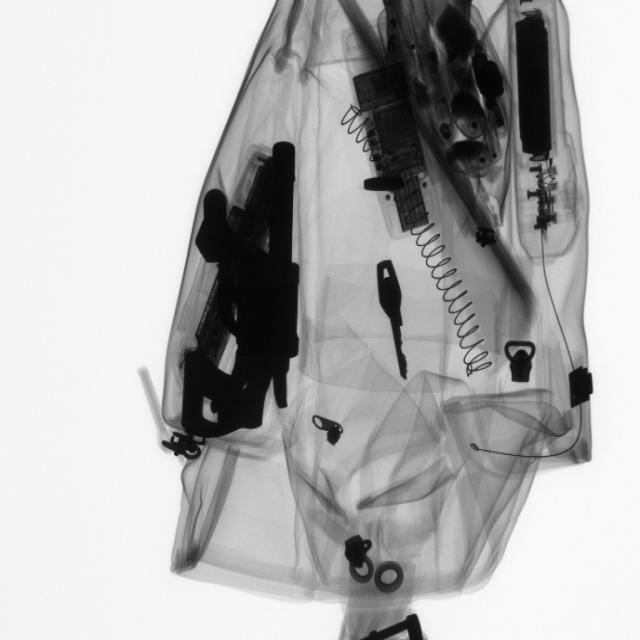GUN: (193, 119, 306, 479)
